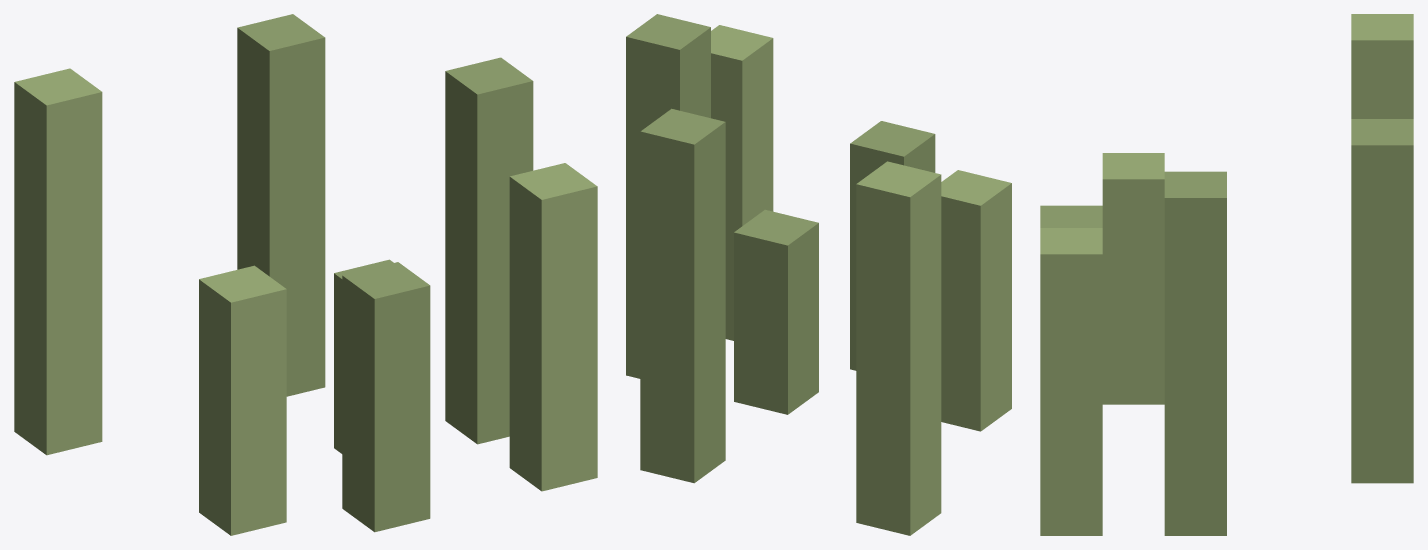
File: junco_05.glb
3 renders of one model, left to right at view 1: azimuth 30°, elevation 25°; view 2: azimuth 150°, elevation 25°; view 3: azimuth 270°, elevation 25°, orthographic. The views are drawn at different scales.
Parts seen in each view (by area): view 1: junco_05; view 2: junco_05; view 3: junco_05.
Part boxes in pixels (left/top/right/bottom): junco_05: left=14, top=14, right=597, bottom=535; junco_05: left=626, top=14, right=1011, bottom=535; junco_05: left=1040, top=14, right=1413, bottom=535.
Size of the model in its own units: 0.7 by 0.6 by 0.6.
